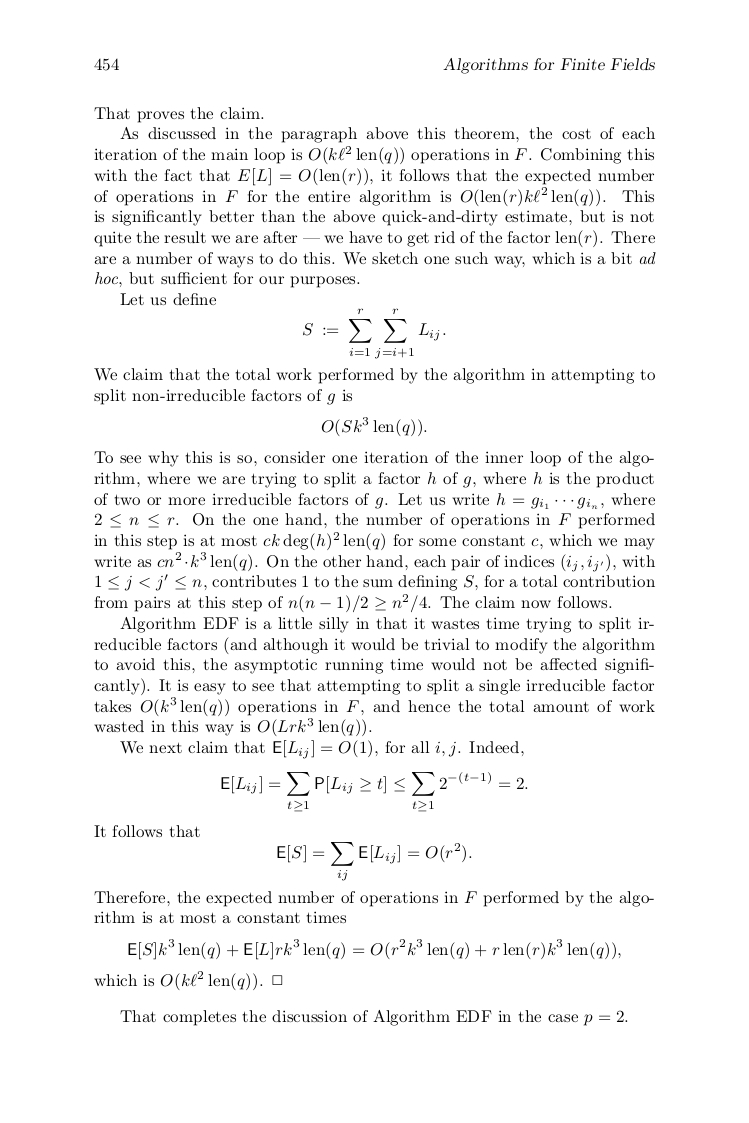formula: (221, 772, 527, 811), (277, 842, 471, 880), (303, 308, 445, 358), (321, 415, 426, 437)
